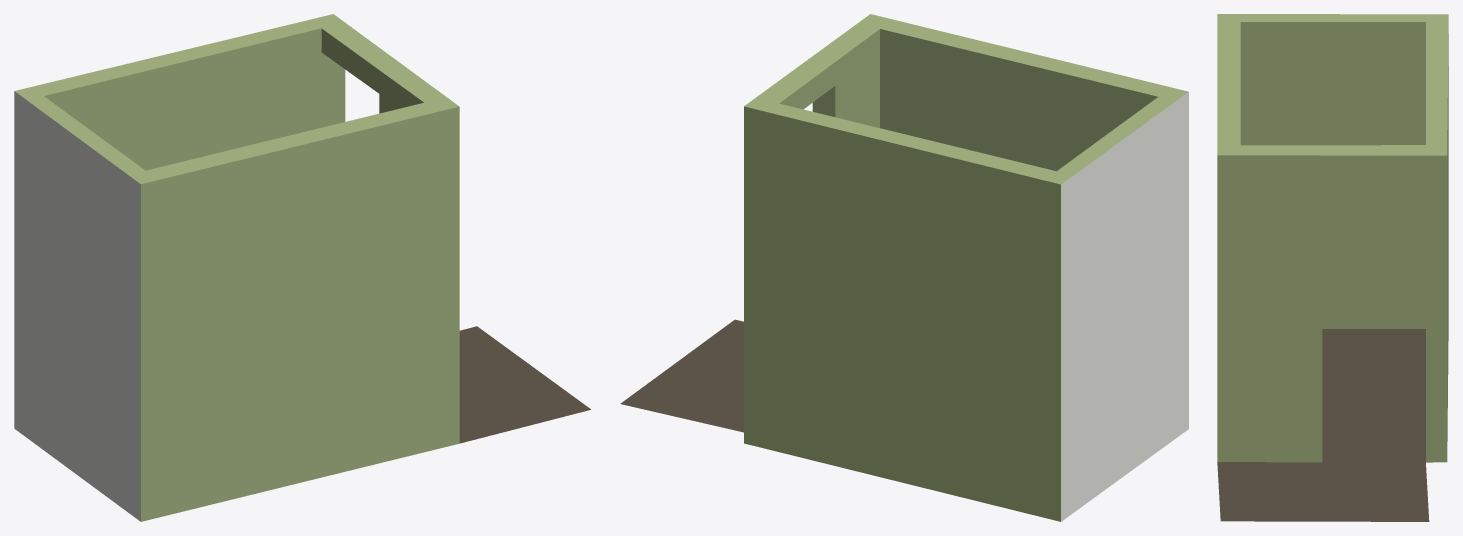
File: EscenaBaño.fbx
The picture shows the model from 3 angles, left to right: view 1: azimuth 30°, elevation 25°; view 2: azimuth 150°, elevation 25°; view 3: azimuth 270°, elevation 25°; orthographic projection. The views are drawn at different scales.
Visible parts, largest first — view 1: Cube.015; view 2: Cube.015; view 3: Cube.015.
Boxes of the visible parts, <box> form: Cube.015: <box>14,14,590,521</box>; Cube.015: <box>620,14,1188,521</box>; Cube.015: <box>1217,14,1448,521</box>.
Size of the model in its own units: 4.18 by 2.98 by 2.04.
